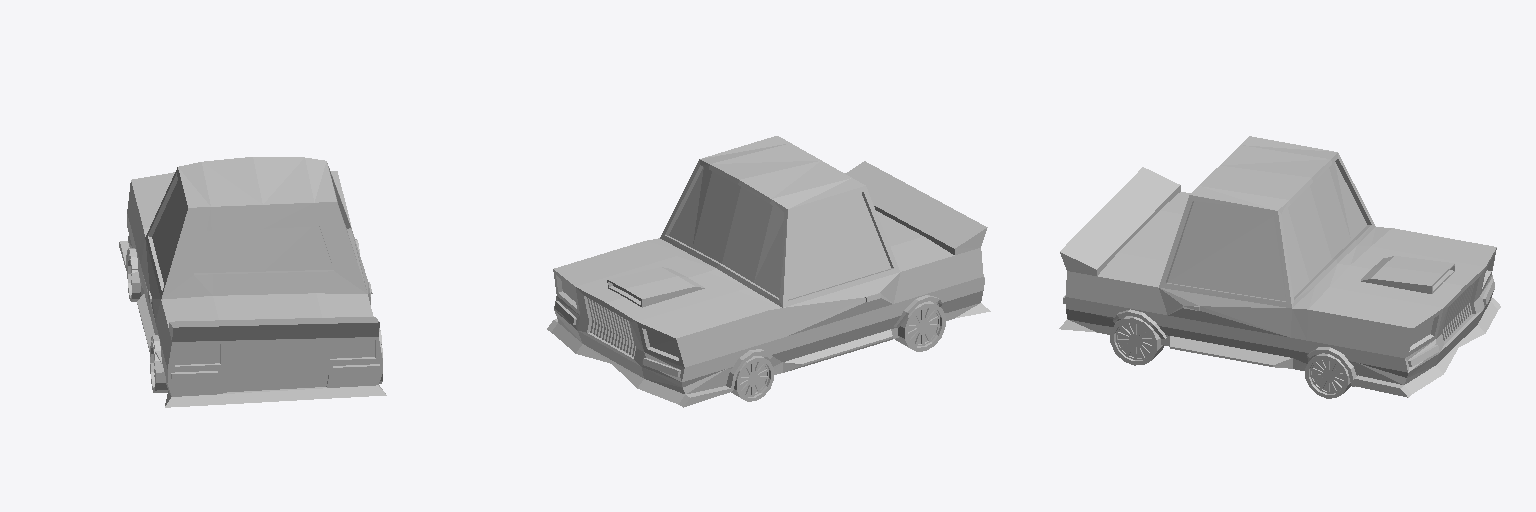
File: Car.obj
The picture shows the model from 3 angles: view 1: azimuth 30°, elevation 25°; view 2: azimuth 150°, elevation 25°; view 3: azimuth 270°, elevation 25°; orthographic projection.
Parts seen in each view (by area): view 1: body_ID56, backlight_ID75, wheel.1_ID84; view 2: body_ID56, wheel.1_ID84, lattice.1_ID29, wheel1.1_ID93, headlight_ID66; view 3: body_ID56, wheel.1_ID84, wheel1.1_ID93, lattice.1_ID29.
Boxes of the visible parts, x1=… form: body_ID56: x1=119, y1=157, x2=386, y2=407; backlight_ID75: x1=175, y1=340, x2=374, y2=364; wheel.1_ID84: x1=150, y1=341, x2=382, y2=392; body_ID56: x1=547, y1=136, x2=990, y2=407; wheel.1_ID84: x1=895, y1=301, x2=945, y2=351; lattice.1_ID29: x1=587, y1=298, x2=635, y2=356; wheel1.1_ID93: x1=731, y1=356, x2=773, y2=401; headlight_ID66: x1=561, y1=279, x2=677, y2=356; body_ID56: x1=1059, y1=136, x2=1500, y2=397; wheel.1_ID84: x1=1110, y1=316, x2=1163, y2=365; wheel1.1_ID93: x1=1305, y1=353, x2=1351, y2=398; lattice.1_ID29: x1=1442, y1=282, x2=1474, y2=341.
Bounding box in the file's own units: 2.16 × 1.11 × 2.64.